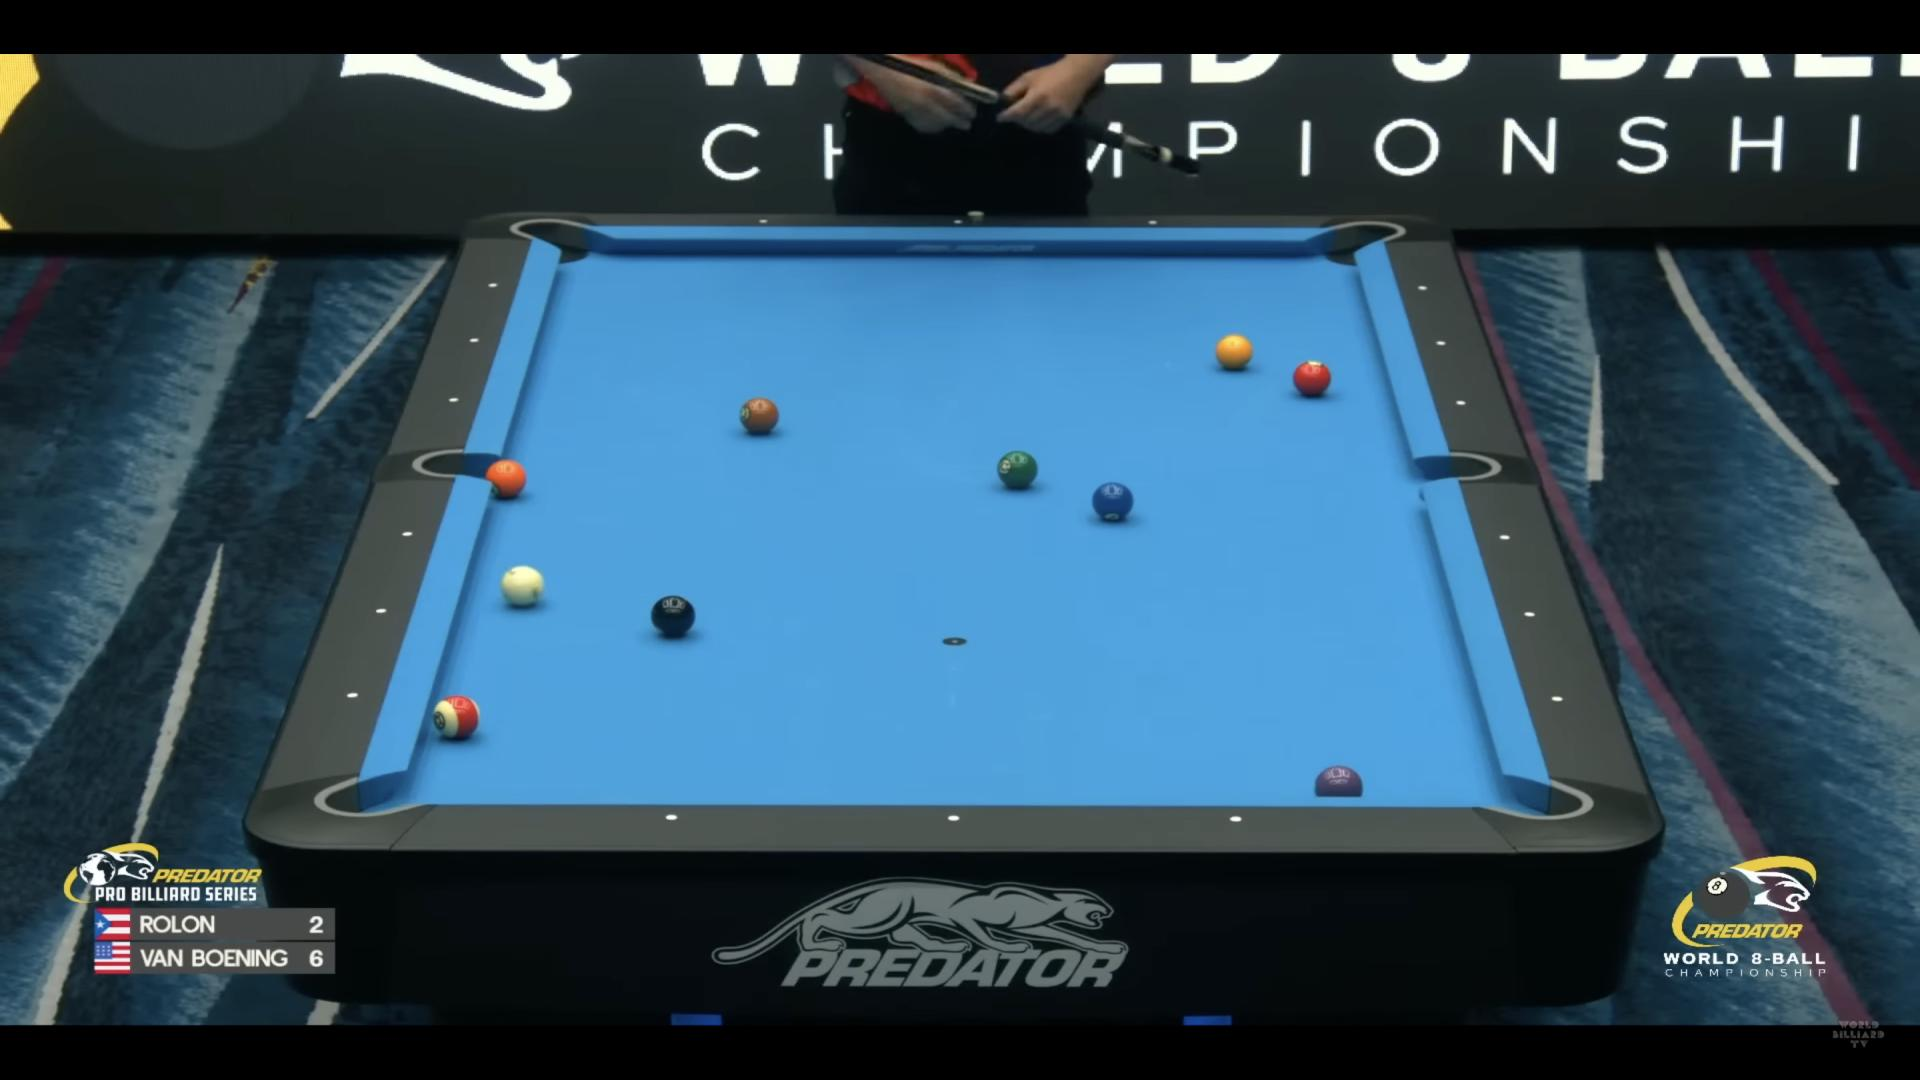Black: (650, 595, 695, 636)
Cue: (501, 564, 545, 607)
Dot: (665, 810, 680, 824), (945, 811, 961, 825), (1228, 812, 1244, 827), (1551, 692, 1564, 705), (1523, 608, 1536, 621), (1498, 531, 1511, 545), (373, 604, 386, 617), (345, 690, 360, 702), (401, 529, 415, 541), (447, 393, 459, 405), (488, 280, 500, 291), (1436, 336, 1448, 348), (469, 335, 481, 345), (1455, 397, 1466, 407), (1418, 284, 1429, 294), (952, 218, 963, 228), (1149, 218, 1159, 228), (758, 216, 769, 225)
Solid: (1092, 481, 1134, 521), (485, 459, 526, 498), (997, 451, 1038, 488), (1316, 766, 1362, 798), (1294, 360, 1332, 396), (1216, 334, 1254, 369), (741, 397, 779, 433)
Striped: (433, 695, 480, 740)
